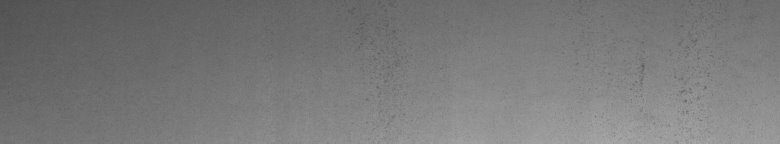ib: (637, 64, 707, 112)
